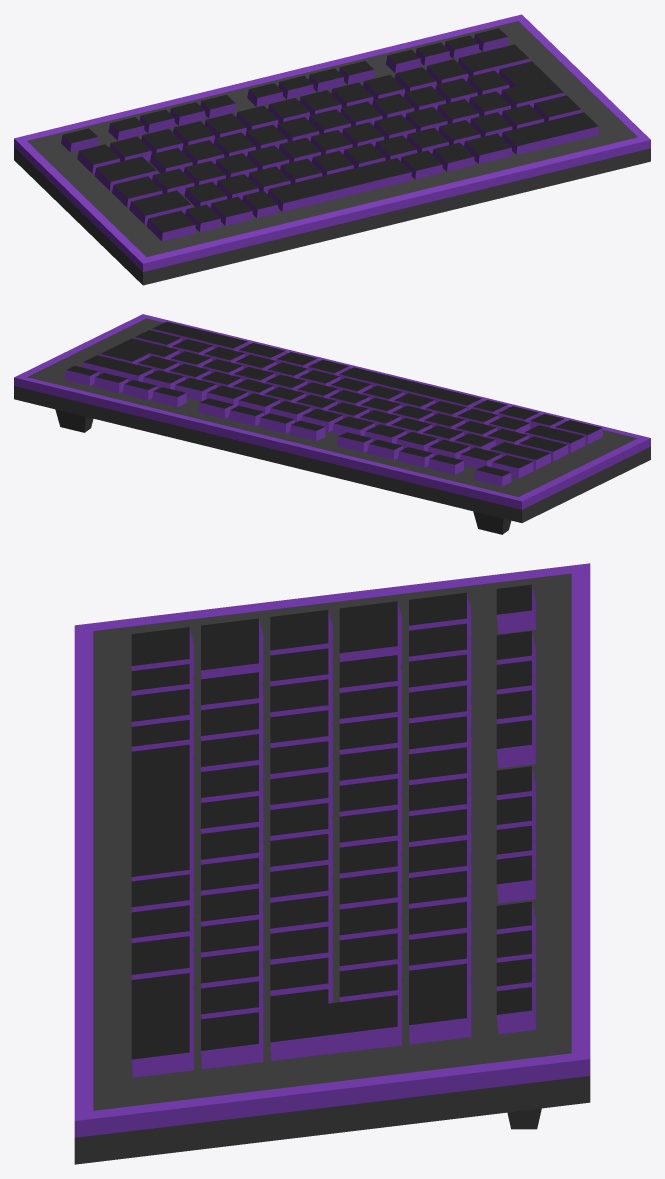
File: KeyboardV3.fbx
3 renders of one model, top to bottom at view 1: azimuth 30°, elevation 25°; view 2: azimuth 150°, elevation 25°; view 3: azimuth 270°, elevation 25°, orthographic. The views are drawn at different scales.
Parts seen in each view (by area): view 1: KeyboardV3; view 2: KeyboardV3; view 3: KeyboardV3.
Part boxes in pixels (left/top/right/bottom): KeyboardV3: left=14, top=14, right=650, bottom=285; KeyboardV3: left=14, top=314, right=650, bottom=534; KeyboardV3: left=74, top=563, right=590, bottom=1164.
Size of the model in its own units: 32.52 by 3.6 by 14.3.
